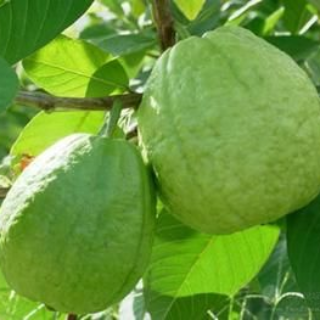oi: (138, 29, 320, 233), (1, 133, 157, 315)
